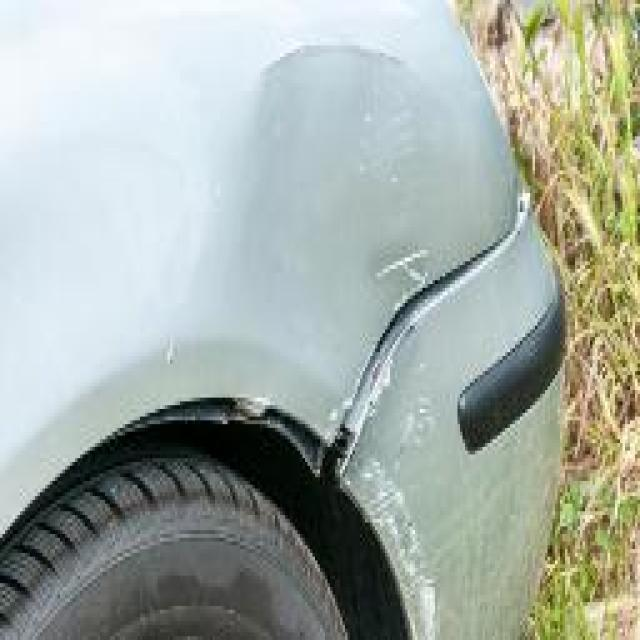Bumper: (333, 244, 567, 640)
Fender: (69, 10, 513, 420)
